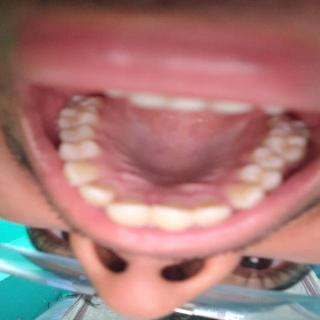maligned: (254, 145, 290, 176)
